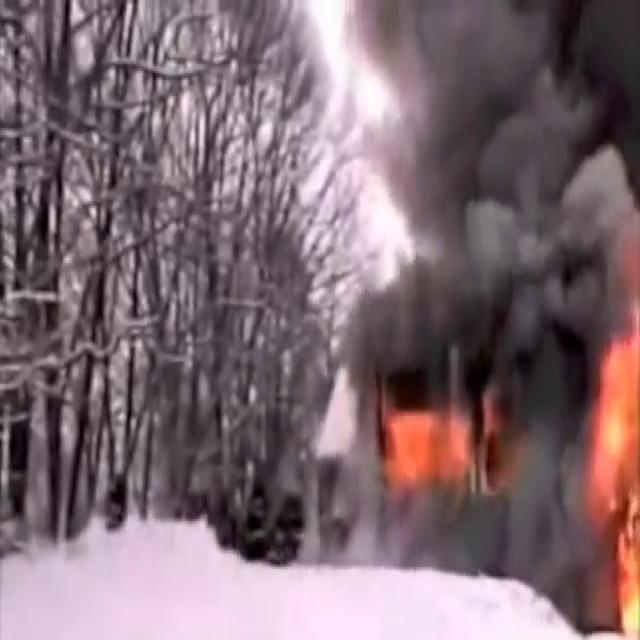Fire: (578, 318, 640, 636)
Smoke: (304, 0, 640, 443)
